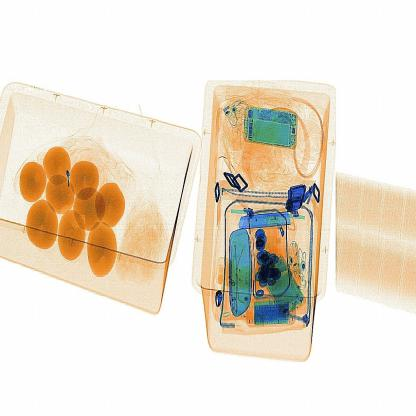pliers: (232, 202, 298, 238)
